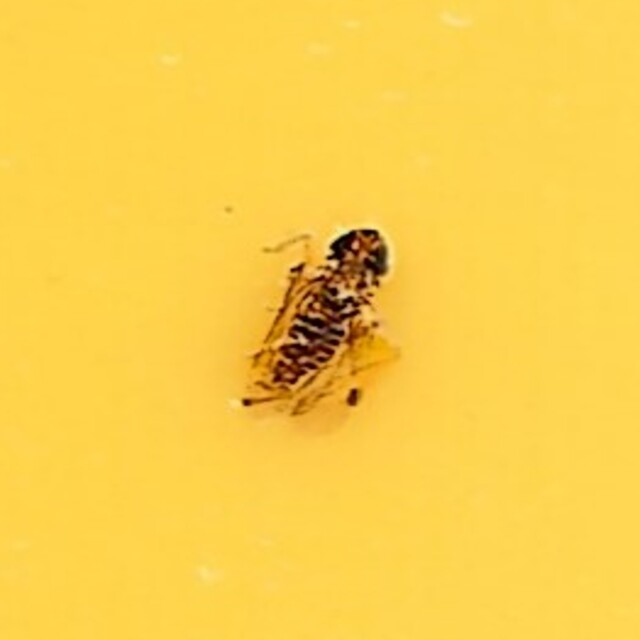Hemiptera: (244, 215, 396, 425)
